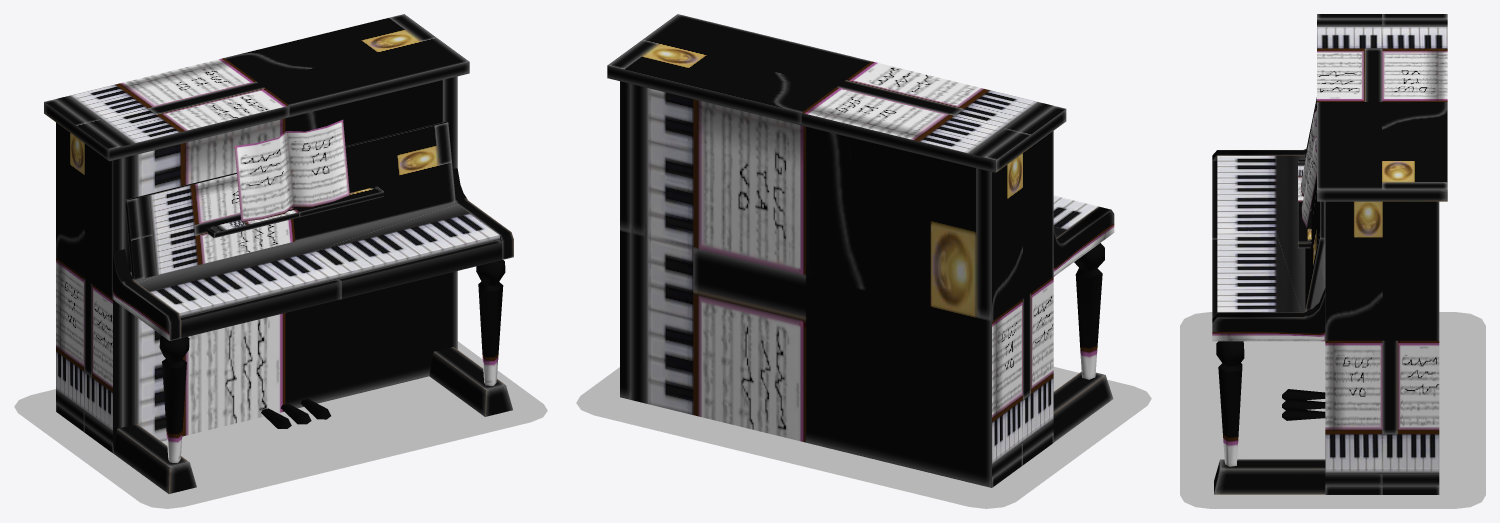
File: F2_Furni_Piano.dae
The picture shows the model from 3 angles, left to right: view 1: azimuth 30°, elevation 25°; view 2: azimuth 150°, elevation 25°; view 3: azimuth 270°, elevation 25°; orthographic projection. The views are drawn at different scales.
Parts seen in each view (by area): view 1: _0_0_node, _1_0_node; view 2: _0_0_node, _1_0_node; view 3: _0_0_node, _1_0_node.
Boxes of the visible parts, x1,y1,x2,y2 form: _0_0_node: (44, 14, 513, 493); _1_0_node: (14, 341, 547, 508); _0_0_node: (607, 14, 1114, 487); _1_0_node: (576, 367, 1151, 508); _0_0_node: (1212, 14, 1447, 494); _1_0_node: (1180, 312, 1485, 508).
Size of the model in its own units: 17.92 by 13.1 by 11.76.
Materials: 2 (1 with a texture image).
